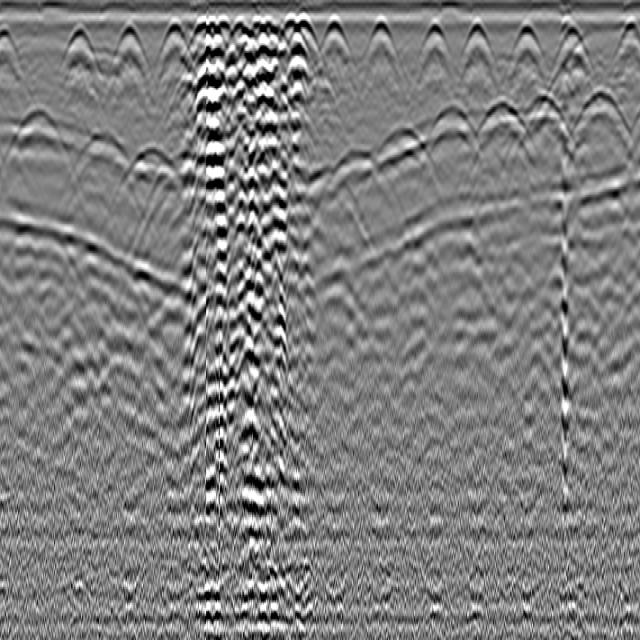hyperbola: (308, 144, 410, 224), (65, 129, 155, 214), (1, 105, 83, 177), (304, 166, 375, 234), (423, 104, 491, 166), (114, 144, 189, 200), (370, 121, 445, 177), (472, 98, 542, 155), (571, 83, 635, 144), (521, 90, 580, 146), (109, 23, 152, 77), (58, 25, 102, 76), (549, 24, 596, 71), (287, 16, 326, 68), (457, 23, 500, 70), (506, 24, 547, 72), (154, 20, 195, 65), (414, 21, 453, 68), (314, 16, 355, 58), (362, 21, 401, 62), (611, 17, 638, 58), (1, 26, 25, 66)
